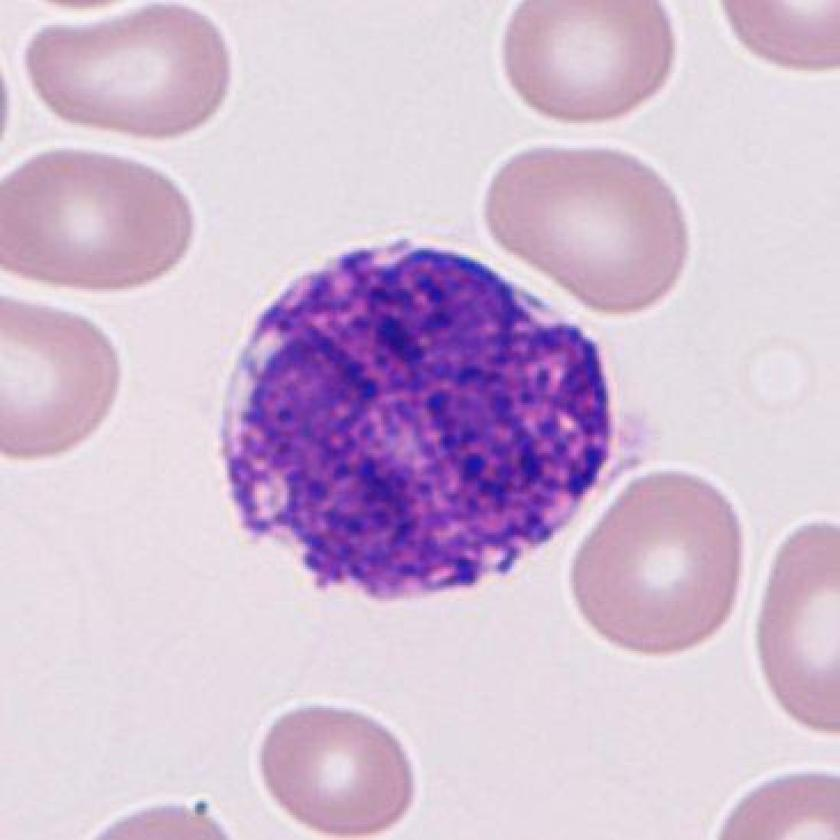basophil: (221, 222, 630, 613)
